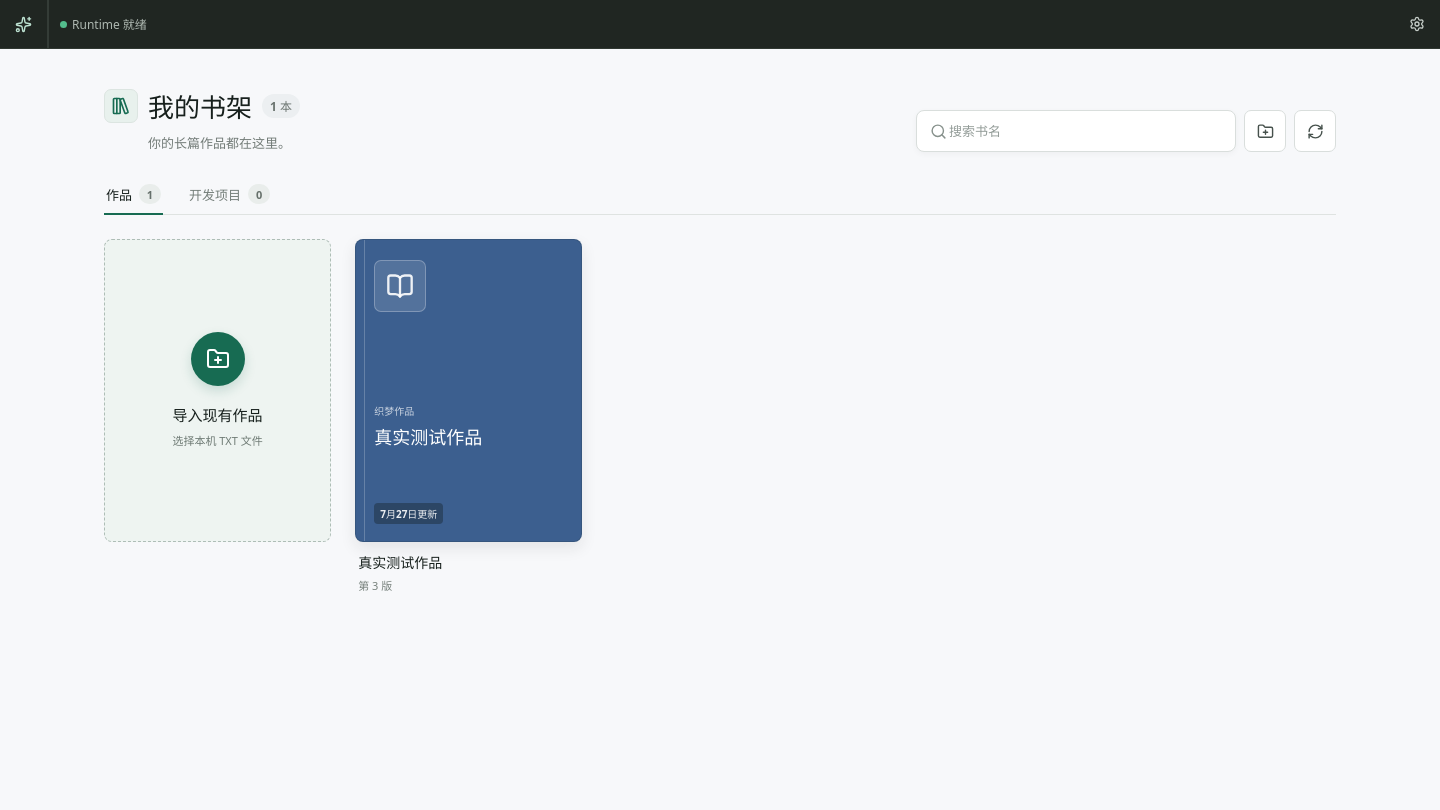
Test: author workbench shell › replaces the example tree and manuscript with a bound project snapshot
What coordinates should you click on to do the following:
click the button "织梦作品 真实测试作品 7月27日更新 真实测试作品 第 3 版"
I would click on:
 (469, 416)
Its box is 355,239 -> 582,594.
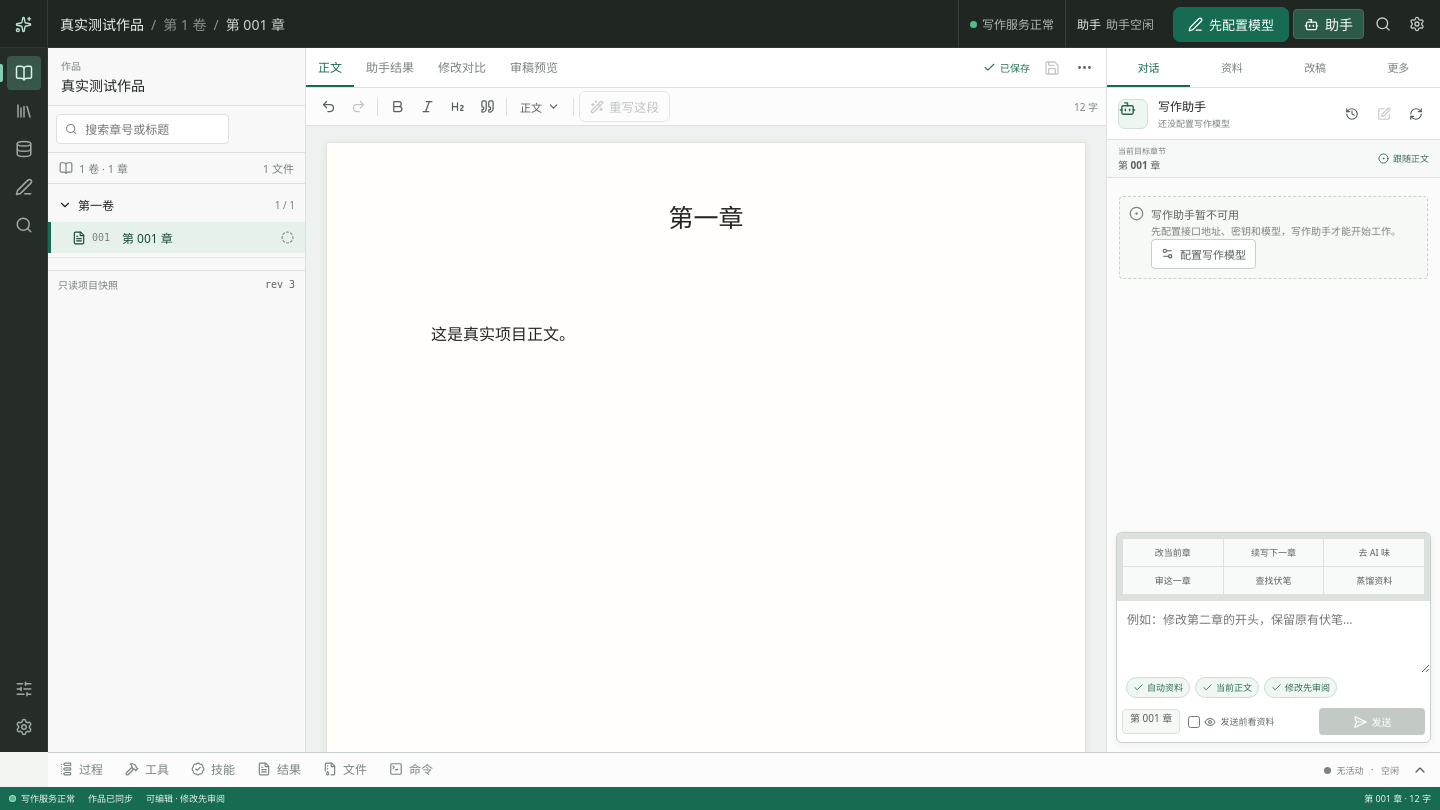
Expected: the text box "这是真实项目正文。" is shown, 431,326 -> 575,343
Expected: the text "只读项目快照" is shown, 58,277 -> 118,292
Expected: the text "rev 3" is shown, 265,279 -> 295,290
What coordinates should you click on to do the following:
click the button "先配置模型"
I would click on:
 (1231, 24)
Its box is 1173,6 -> 1289,42.
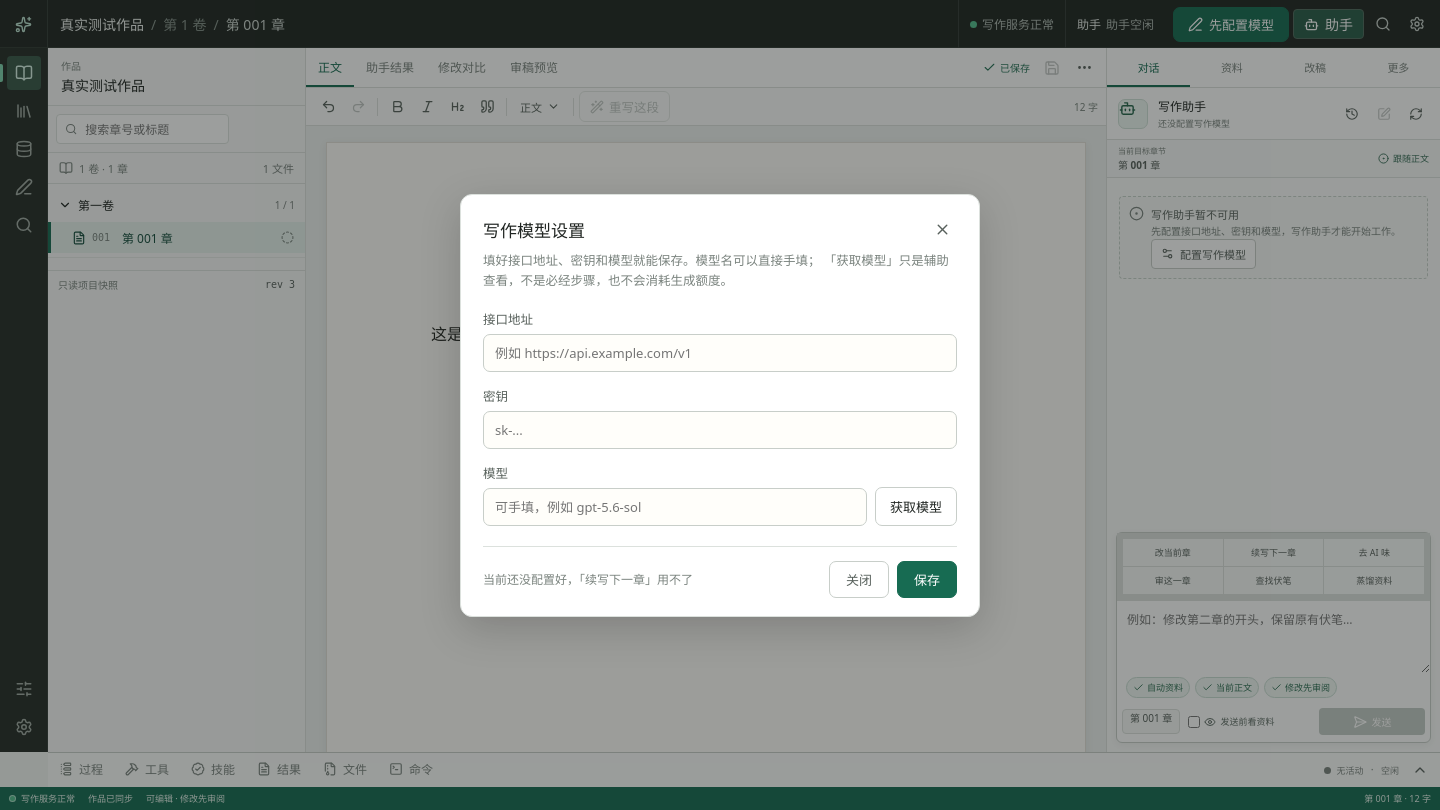
Expected: the dialog "写作模型设置" is shown
